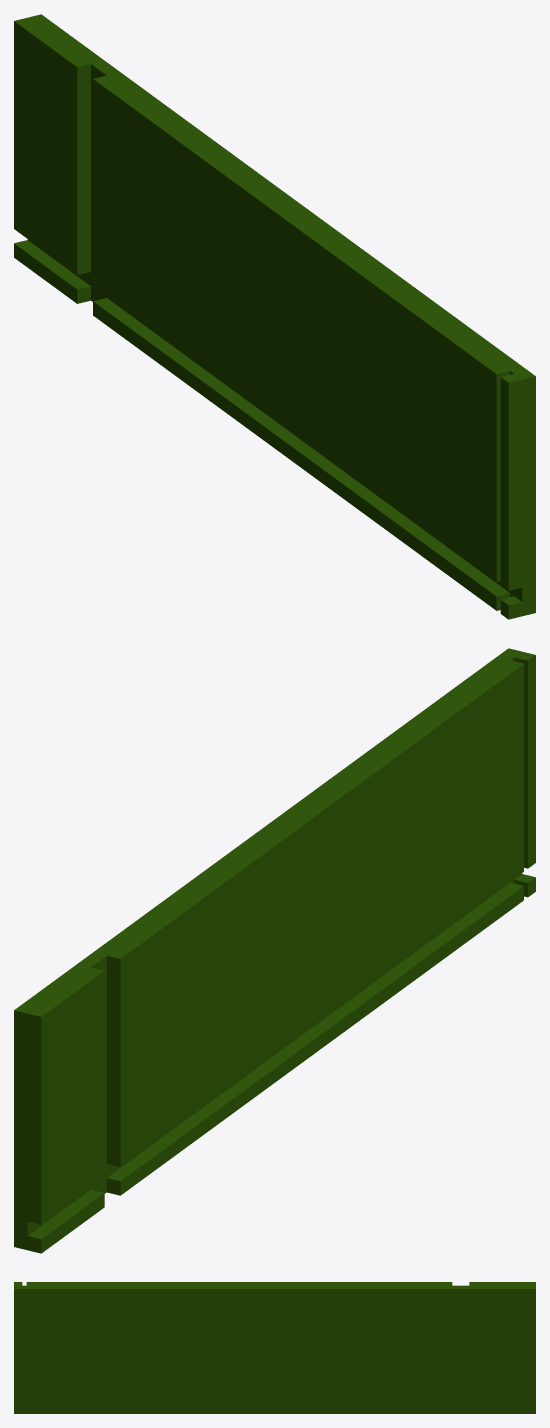
Rendered from original-10.obj.
3 views of the same model, one above another, from view 1: azimuth 30°, elevation 25°; view 2: azimuth 150°, elevation 25°; view 3: azimuth 270°, elevation 25° (orthographic). The views are drawn at different scales.
Visible parts, largest first — view 1: Right_Drawer_Side1/Right_Drawer_Side/mesh17/mesh17-geometry#mesh; view 2: Right_Drawer_Side1/Right_Drawer_Side/mesh17/mesh17-geometry#mesh; view 3: Right_Drawer_Side1/Right_Drawer_Side/mesh17/mesh17-geometry#mesh.
Part boxes in pixels (x1,y1,x2,y2): Right_Drawer_Side1/Right_Drawer_Side/mesh17/mesh17-geometry#mesh: [14, 14, 535, 619]; Right_Drawer_Side1/Right_Drawer_Side/mesh17/mesh17-geometry#mesh: [14, 648, 535, 1253]; Right_Drawer_Side1/Right_Drawer_Side/mesh17/mesh17-geometry#mesh: [14, 1282, 535, 1413].
Bounding box in the file's own units: 0.023 × 0.19 × 0.7196.
